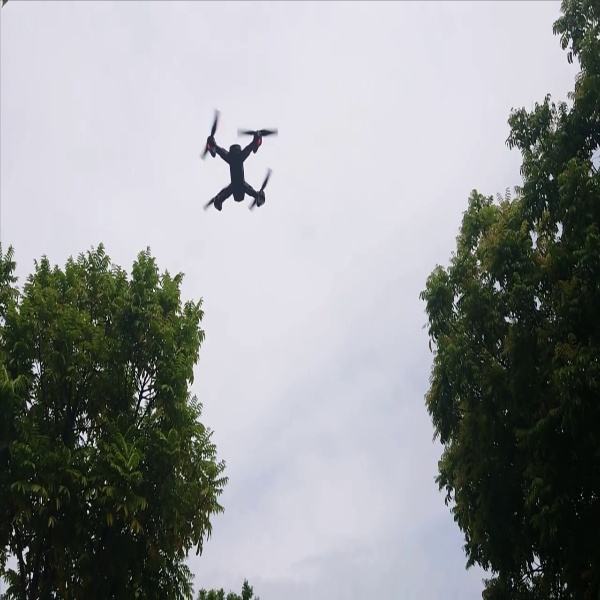drone: (188, 105, 280, 216)
